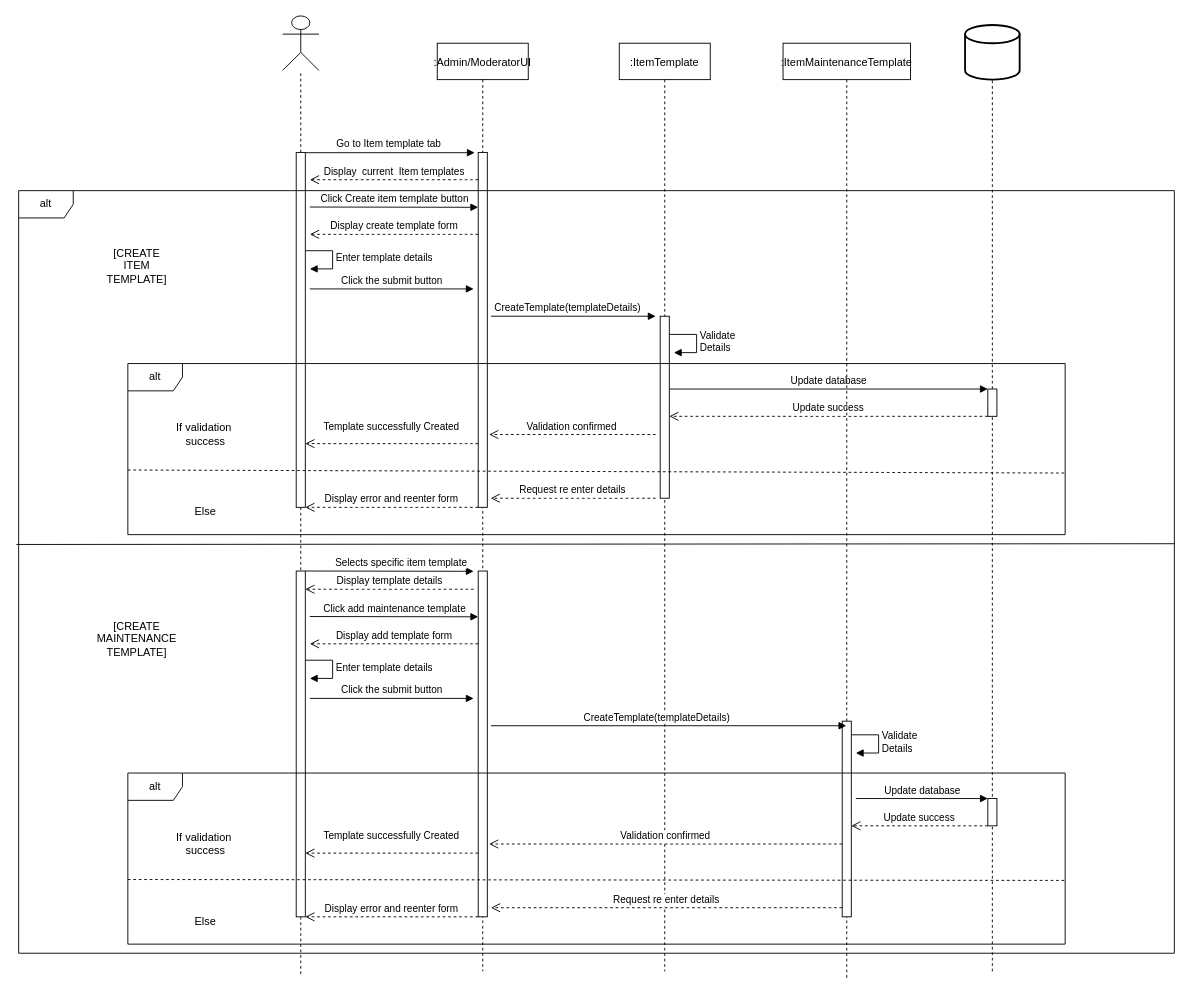
Some shapes in this 1191 by 996 pixel diagram are drawn without their labels. The shapes that lost their labels are listed below. From the top down, each one's centre as x and y in pixels, then its label:
At point 300,43: "Admin".
At point 992,52: "Database".
